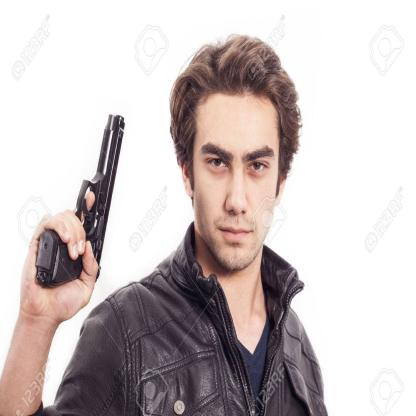handgun: (34, 114, 135, 286)
